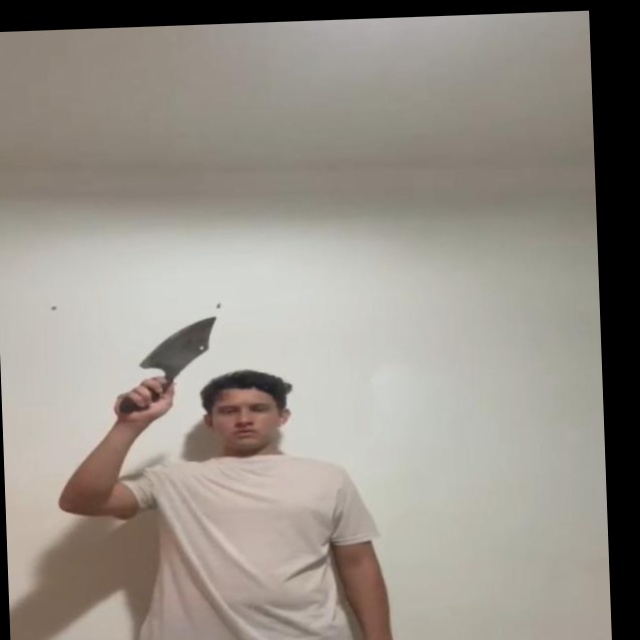Sharp-Object: (143, 310, 220, 373)
